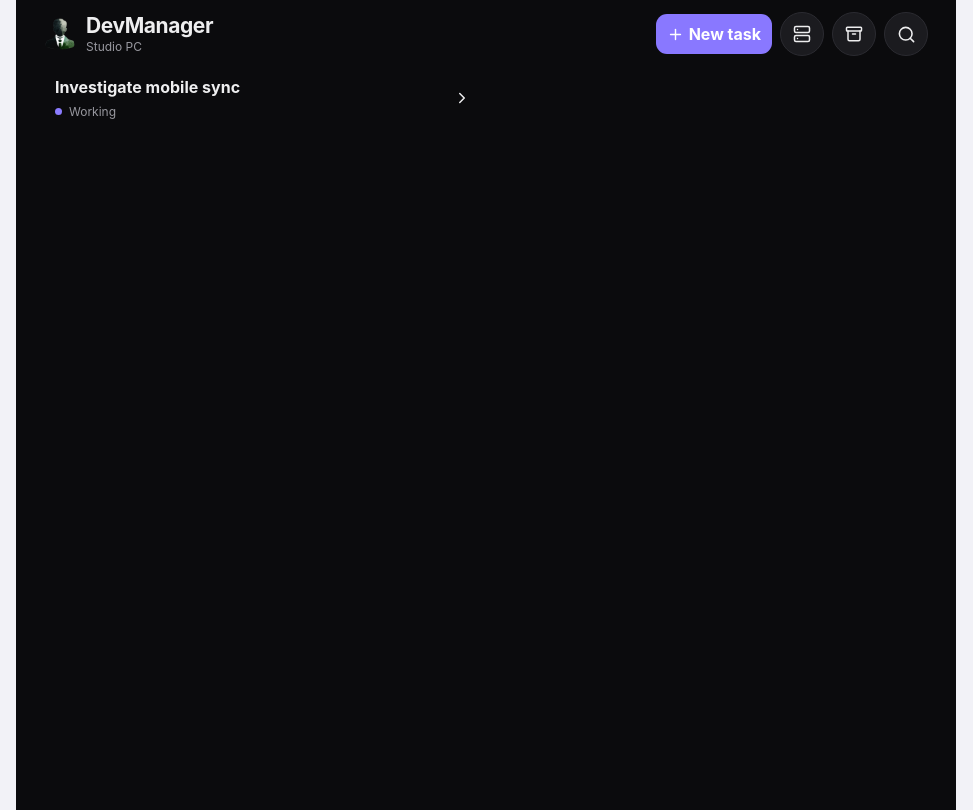
Scenario: NativeRemoteApp › opens a canonical watched task and renders its cached semantic conversation
The image size is (973, 810).
What coordinates should you click on to do the following:
click the button "Investigate mobile sync Working"
I would click on:
 (148, 87)
Its box is [44,62,482,134].
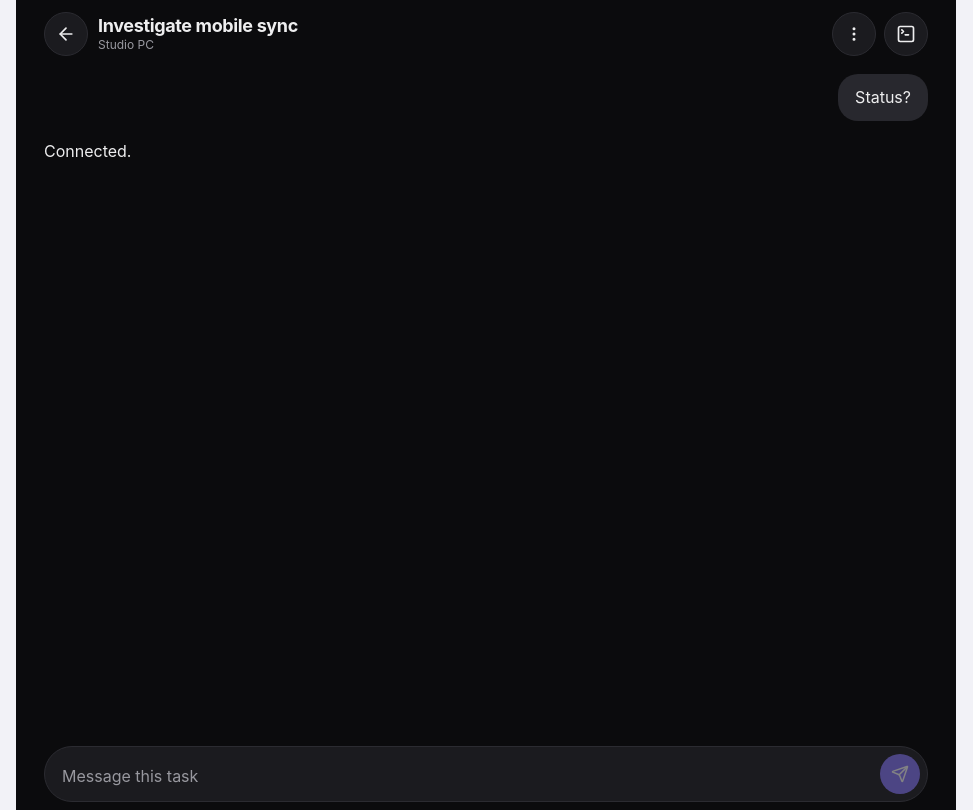
Check: the text "Connected." is shown, box [44,141,132,161]
Check: the text box labelled "Message this task" is shown, box [52,760,872,794]
